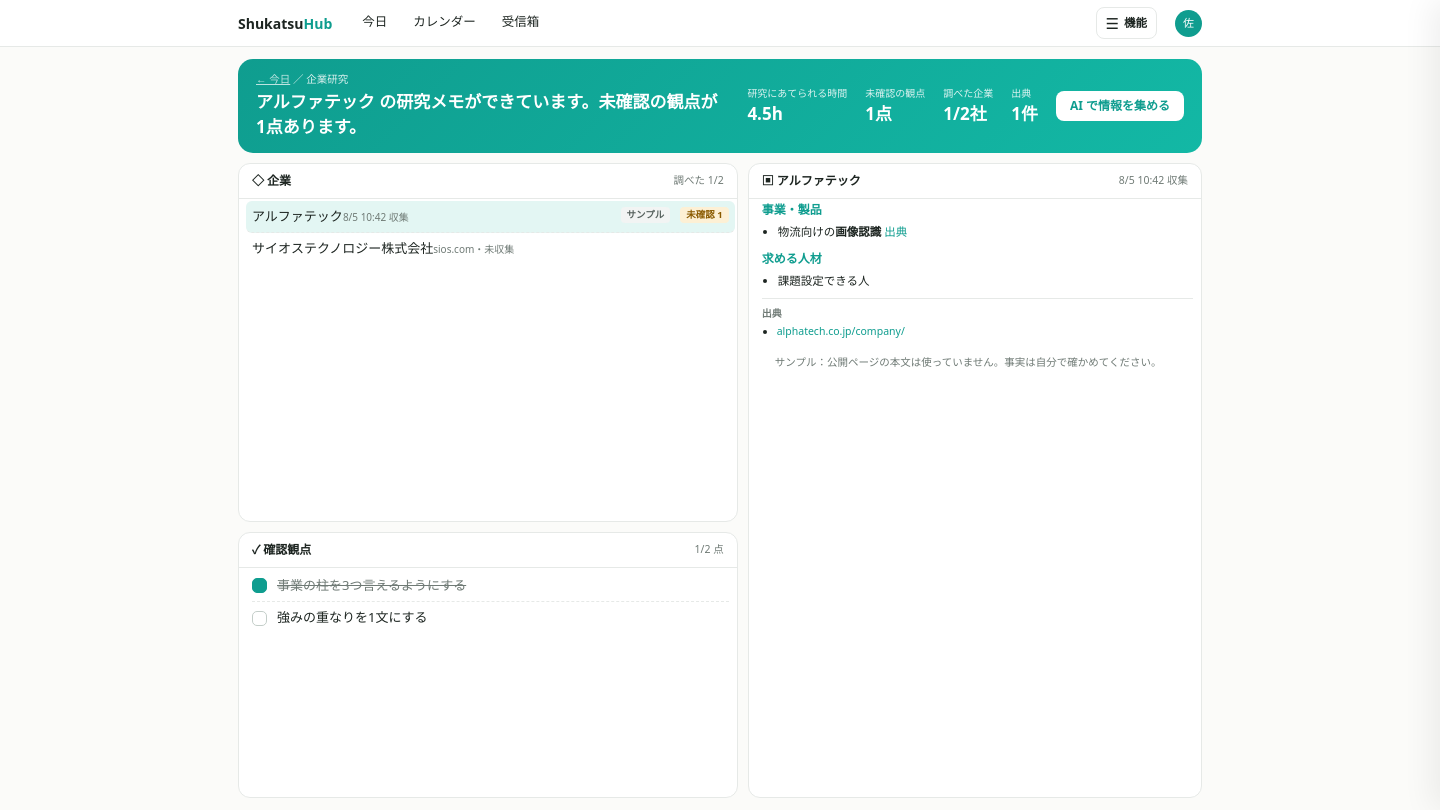
Scenario: AI で情報を集める › 収集中はボタンを「収集中…」にして二重押しを防ぐ
The width and height of the screenshot is (1440, 810).
Expected: the text "アルファテック" is shown, [252,207,343,225]
Click the button "AI で情報を集める" at (1120, 106), box [1056,91,1184,121]
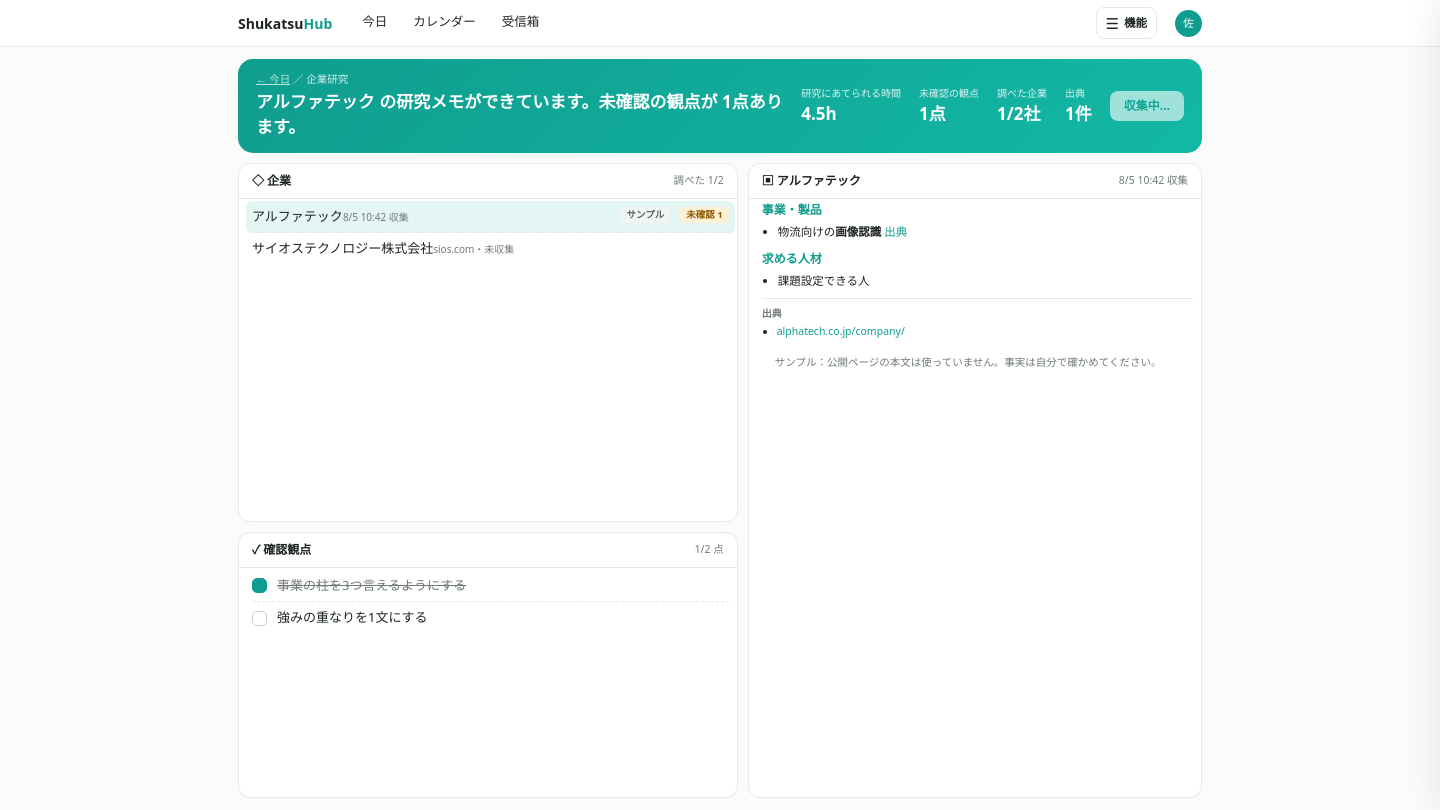
Now the button "収集中…" is disabled, box [1110,91,1184,121]
